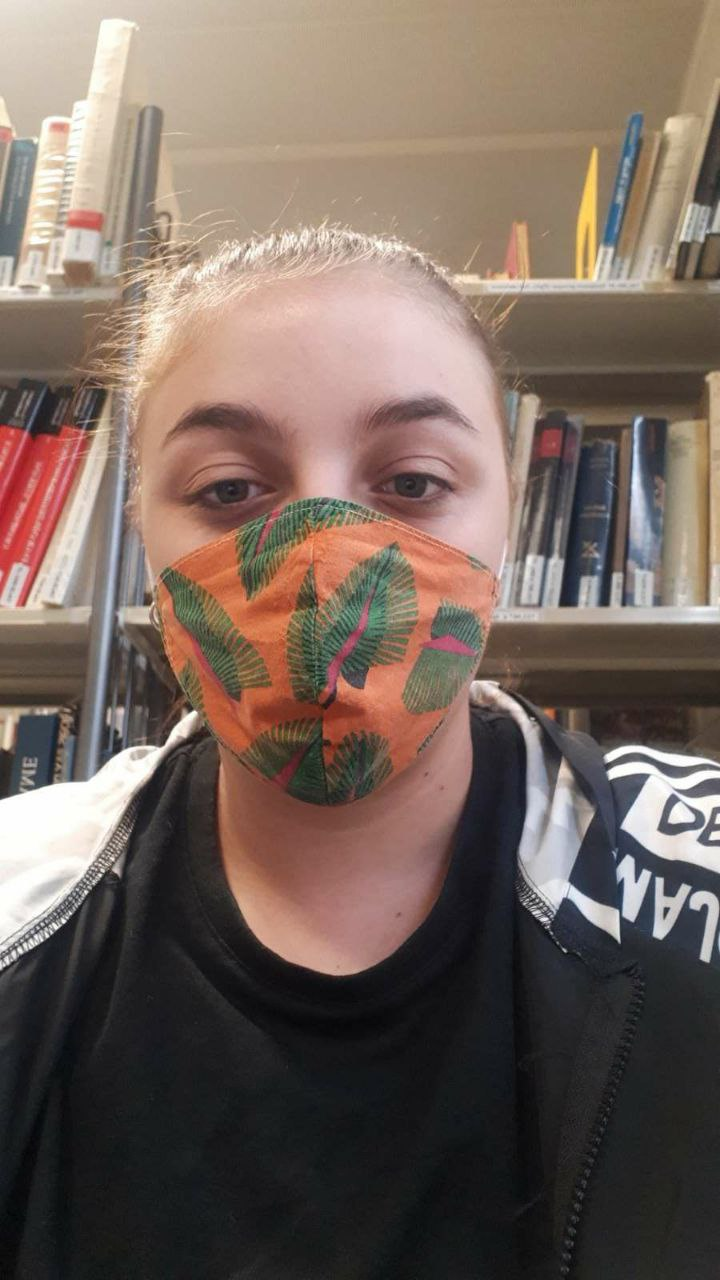with_mask: (111, 241, 553, 803)
